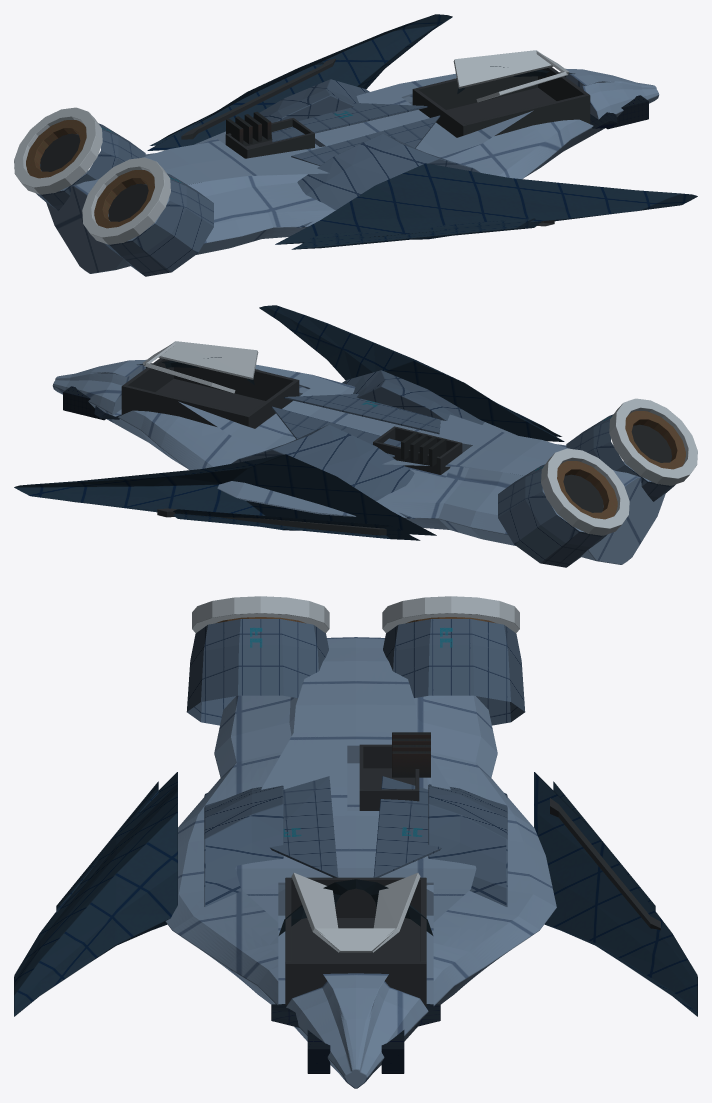
The model's file is hornet_production_v1_lod1.glb.
3 views of the same model, one above another, from view 1: azimuth 30°, elevation 25°; view 2: azimuth 150°, elevation 25°; view 3: azimuth 270°, elevation 25° (orthographic). The views are drawn at different scales.
Visible parts, largest first — view 1: LOD1_Hull, Wing_Port.001, Wing_Stbd.001, Wing_Port_RootFairing.001, DriveHouse_Port.001, DriveFlange_Port.001, DriveFlange_Stbd.001, Wing_Port_Flap.001, Wing_Stbd_RootFairing.001, CanopyFrame_Stbd.001, SaddlePanel_Stbd.001, CanopyTub_C191_Port.001 (+14 smaller); view 2: LOD1_Hull, Wing_Stbd.001, Wing_Port.001, Wing_Stbd_RootFairing.001, DriveHouse_Stbd.001, DriveFlange_Stbd.001, DriveFlange_Port.001, Wing_Port_RootFairing.001, SaddlePanel_Port.001, CanopyFrame_Port.001, Wing_Stbd_Flap.001, CanopyTub_C191_Stbd.001 (+14 smaller); view 3: LOD1_Hull, Wing_Port.001, Wing_Stbd.001, DriveHouse_Port.001, DriveHouse_Stbd.001, Wing_Stbd_RootFairing.001, Wing_Port_RootFairing.001, SaddlePanel_Port.001, SaddlePanel_Stbd.001, CanopyTub_C191_Floor.001, CanopyTub_C191_Fore.001, DriveFlange_Port.001 (+12 smaller).
Part boxes in pixels (x1,y1,x2,y2): LOD1_Hull: (46, 68, 659, 273); Wing_Port.001: (275, 163, 697, 244); Wing_Stbd.001: (147, 14, 452, 150); Wing_Port_RootFairing.001: (296, 133, 480, 227); DriveHouse_Port.001: (104, 173, 213, 276); DriveFlange_Port.001: (82, 157, 170, 244); DriveFlange_Stbd.001: (14, 107, 102, 194); Wing_Port_Flap.001: (291, 218, 540, 249); Wing_Stbd_RootFairing.001: (252, 79, 369, 122); CanopyFrame_Stbd.001: (453, 50, 553, 88); SaddlePanel_Stbd.001: (271, 103, 427, 142); CanopyTub_C191_Port.001: (465, 94, 586, 135); LOD1_Hull: (52, 359, 665, 564); Wing_Stbd.001: (14, 454, 436, 535); Wing_Port.001: (259, 305, 564, 441); Wing_Stbd_RootFairing.001: (231, 424, 415, 518); DriveHouse_Stbd.001: (498, 464, 607, 567); DriveFlange_Stbd.001: (541, 448, 629, 535); DriveFlange_Port.001: (609, 398, 697, 485); Wing_Port_RootFairing.001: (342, 370, 484, 424); SaddlePanel_Port.001: (284, 394, 440, 434); CanopyFrame_Port.001: (158, 341, 258, 379); Wing_Stbd_Flap.001: (173, 509, 420, 540); CanopyTub_C191_Stbd.001: (125, 385, 246, 426); LOD1_Hull: (165, 637, 556, 1088); Wing_Port.001: (14, 772, 177, 1016); Wing_Stbd.001: (534, 772, 697, 1016); DriveHouse_Port.001: (186, 619, 328, 725); DriveHouse_Stbd.001: (383, 619, 525, 725); Wing_Stbd_RootFairing.001: (428, 784, 507, 906); Wing_Port_RootFairing.001: (204, 785, 283, 906); SaddlePanel_Port.001: (270, 776, 338, 877); SaddlePanel_Stbd.001: (373, 776, 441, 877); CanopyTub_C191_Floor.001: (285, 918, 426, 1006); CanopyTub_C191_Fore.001: (285, 961, 426, 1006); DriveFlange_Port.001: (192, 596, 329, 633).
Size of what is drawn, in the model's own units: 10.95 by 2.18 by 7.76.
Materials: 11 (7 with a texture image).
